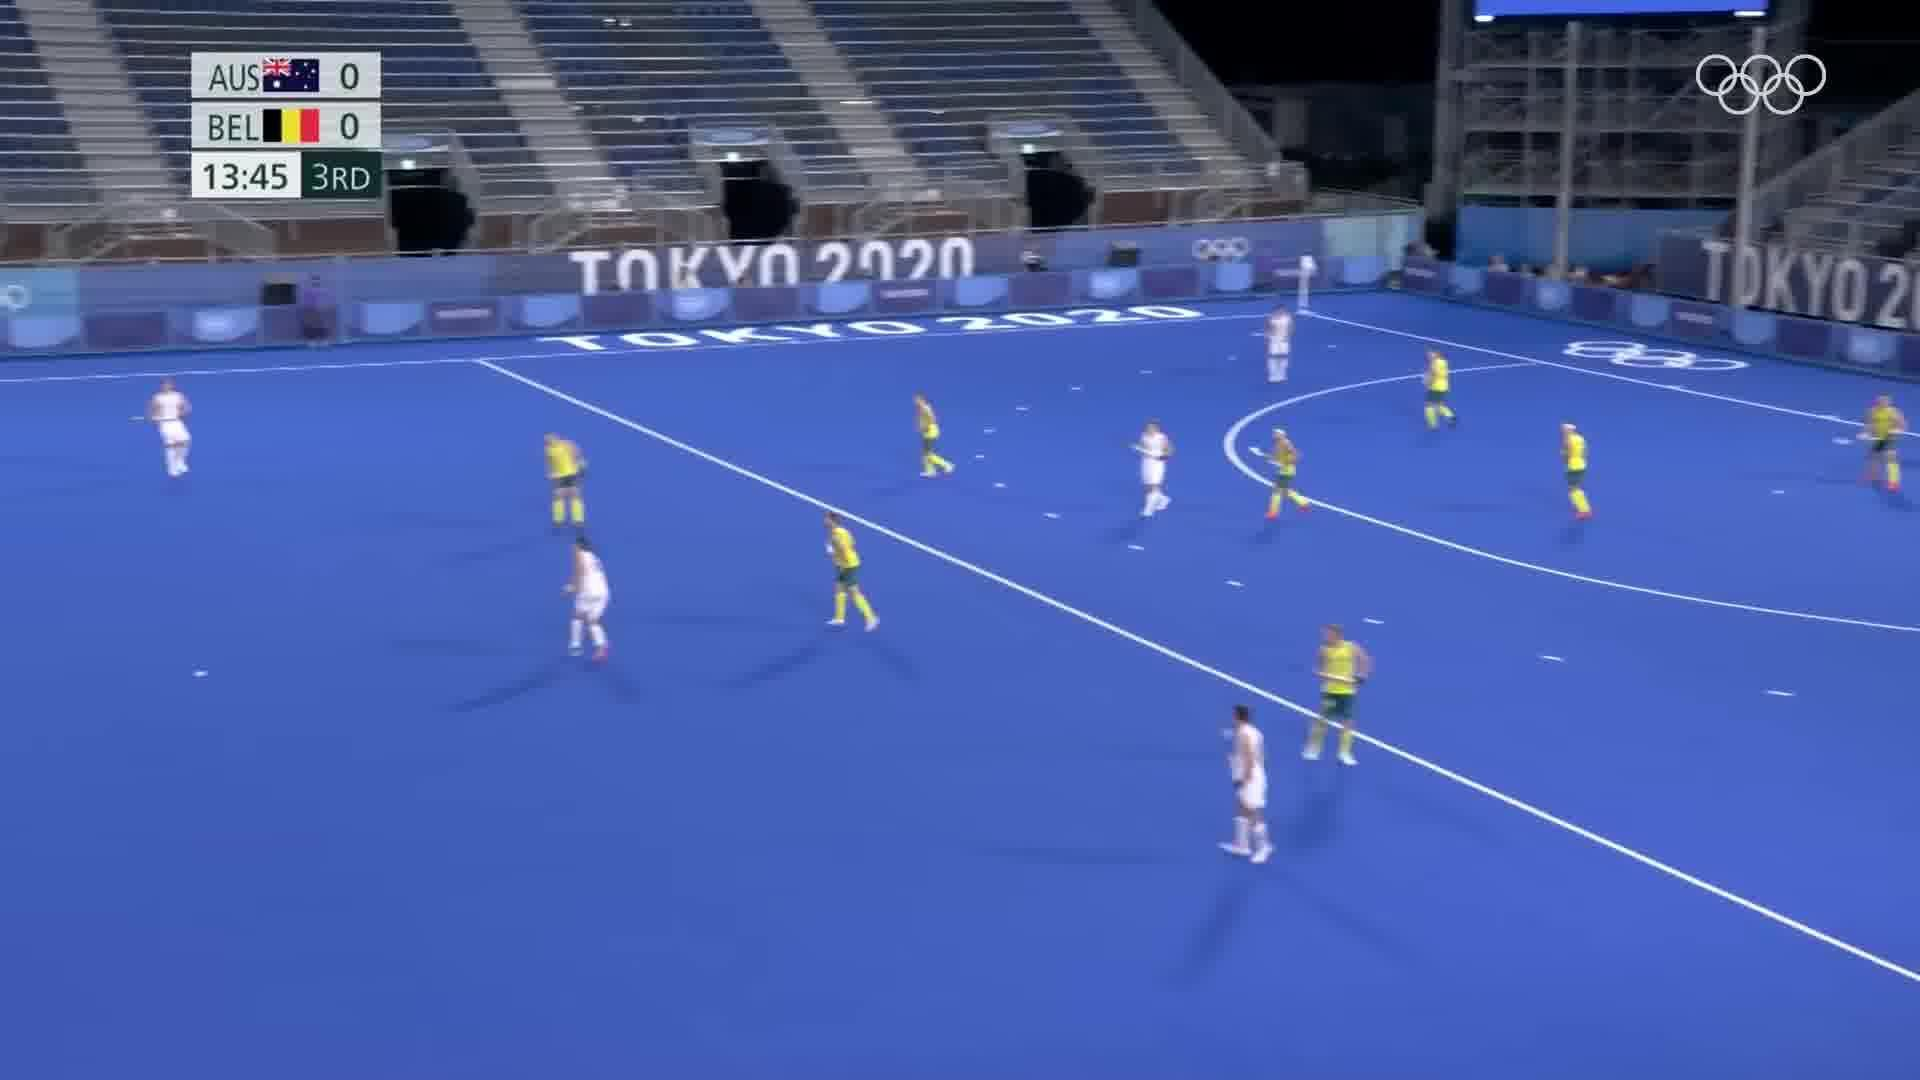ball: (186, 655, 218, 687)
